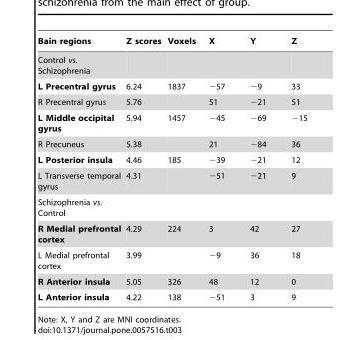table: (36, 36, 306, 301)
table column: (36, 36, 122, 301), (122, 36, 163, 301), (236, 36, 277, 301), (163, 36, 201, 301), (201, 36, 236, 301), (277, 36, 306, 301)
table column header: (36, 36, 306, 50)
table projected row header: (36, 50, 306, 78), (36, 194, 306, 220)
table row: (36, 50, 306, 78), (36, 109, 306, 136), (36, 167, 306, 194), (36, 246, 306, 273), (36, 194, 306, 220), (36, 220, 306, 246), (36, 93, 306, 109), (36, 151, 306, 167), (36, 273, 306, 289), (36, 78, 306, 93), (36, 136, 306, 151), (36, 36, 306, 50), (36, 289, 306, 301)
